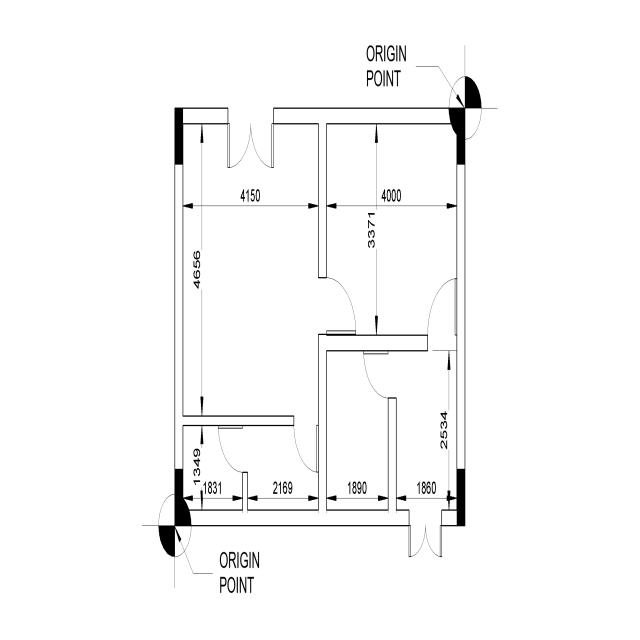Column: (456, 469, 466, 526), (174, 469, 183, 526), (174, 108, 183, 164), (457, 108, 465, 164)
Door: (318, 278, 356, 334), (428, 278, 457, 350), (364, 350, 396, 398), (218, 426, 248, 472), (294, 416, 318, 472)
Double-Door: (228, 108, 274, 168), (409, 509, 442, 557)
